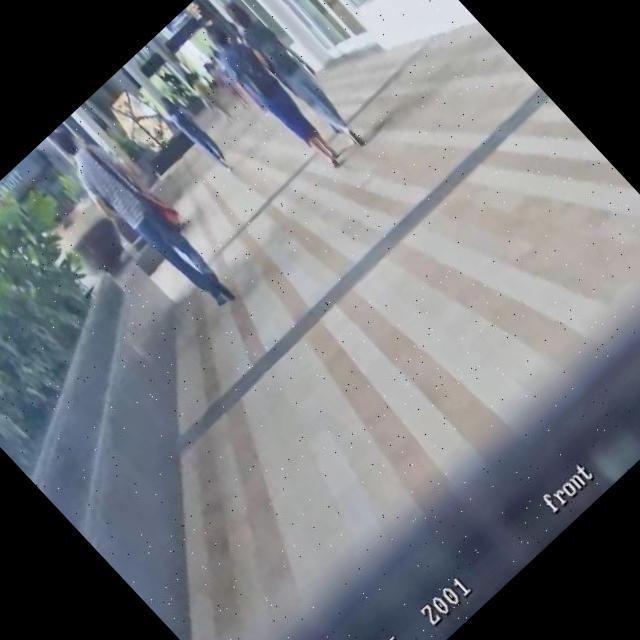person: (40, 111, 245, 326), (195, 15, 352, 179), (215, 0, 376, 157), (155, 89, 236, 174), (181, 66, 238, 126), (200, 56, 254, 112), (206, 44, 240, 81)
